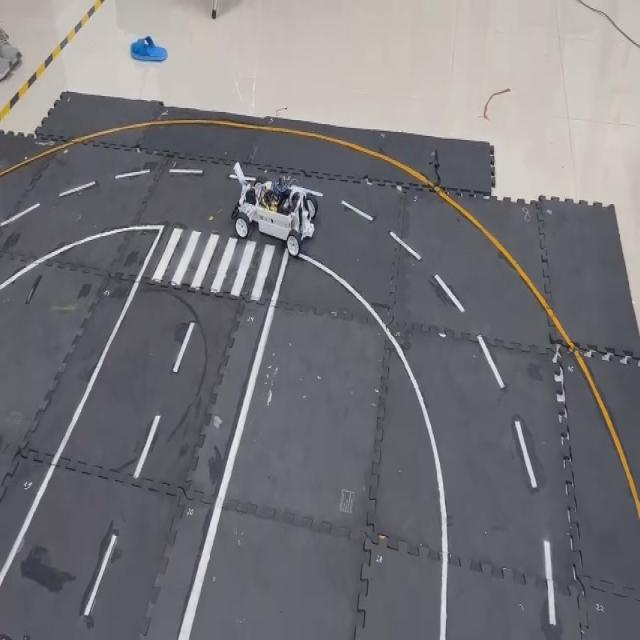SiCo-CAR: (227, 160, 319, 257)
